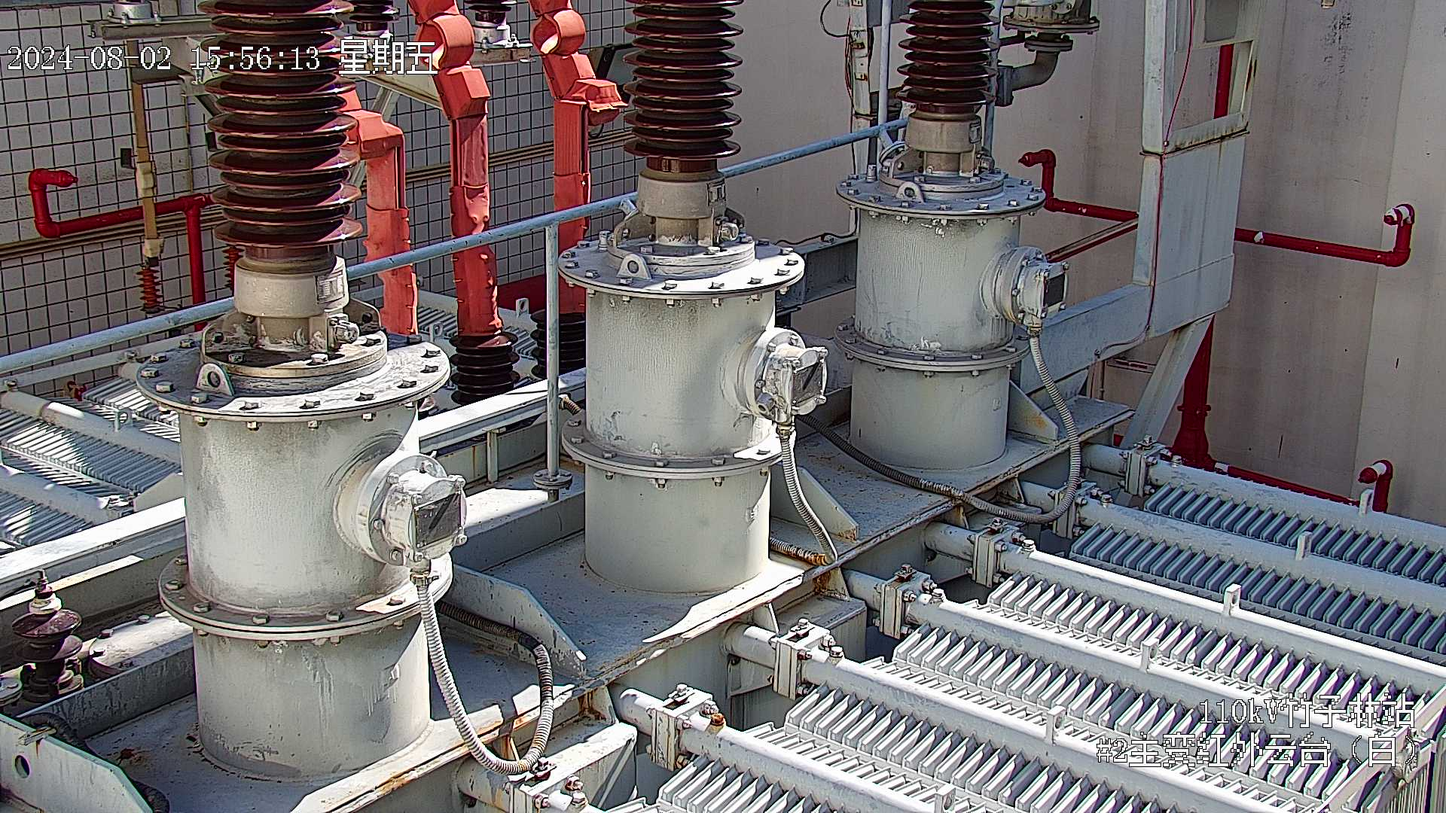MainTR: (0, 1, 1445, 813)
